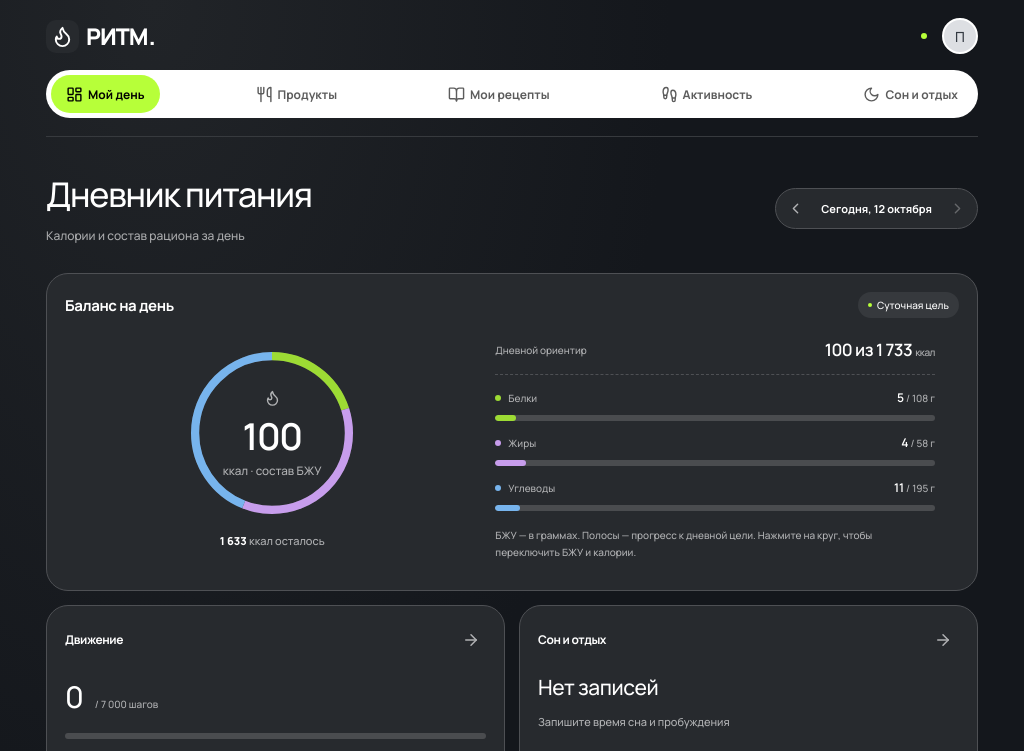
it: Activity navigation › starts the form with the sport selected in the activity launcher
Click the button "Активность" at (706,94), box [646,75,767,113]
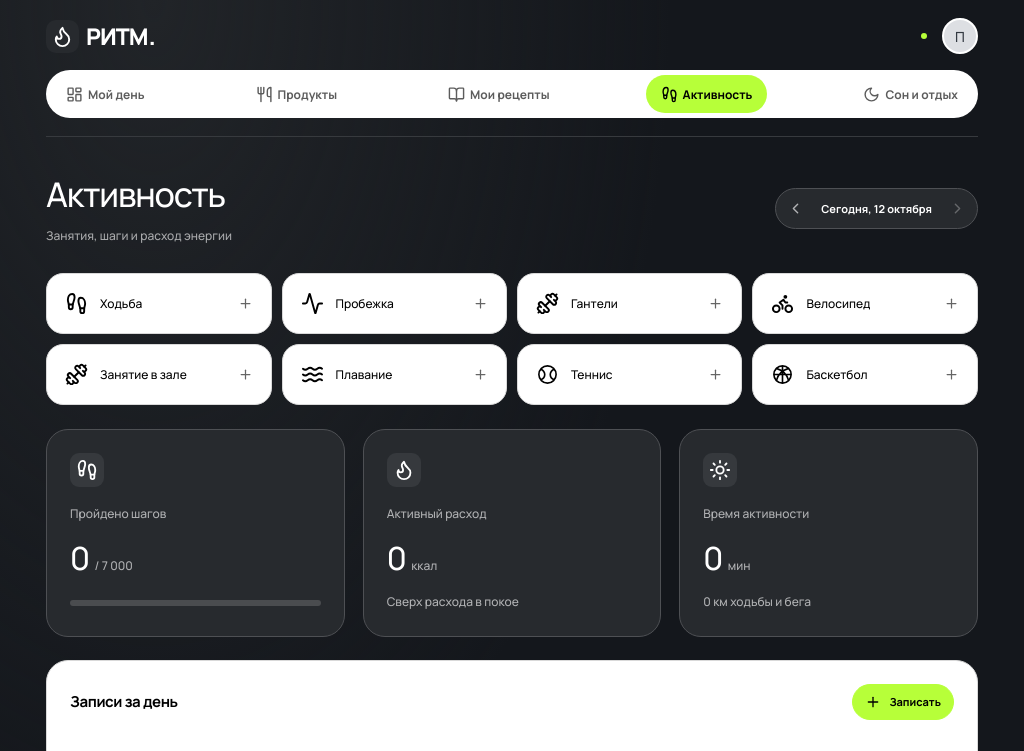
Expected: the button "Велосипед" is shown
Click the button "Велосипед" at (865,304), box [752,273,978,334]
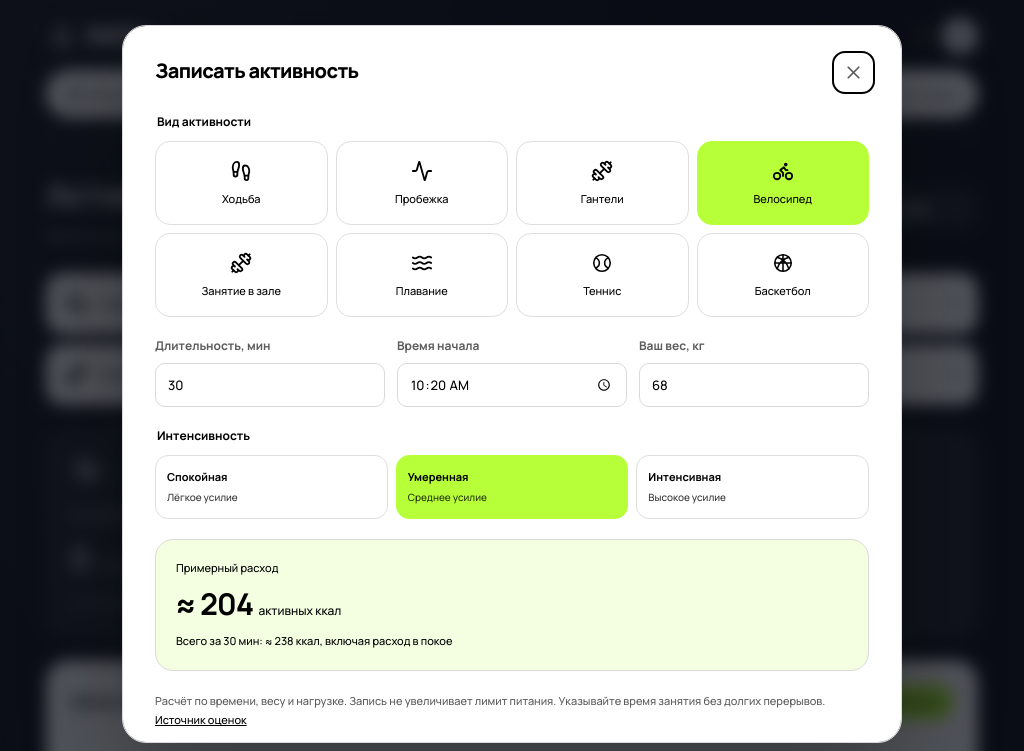
Expected: the heading "Активность" is shown, [46,171,232,219]
Expected: the button with class "activity-type" reads "Велосипед", [696,141,869,225]
